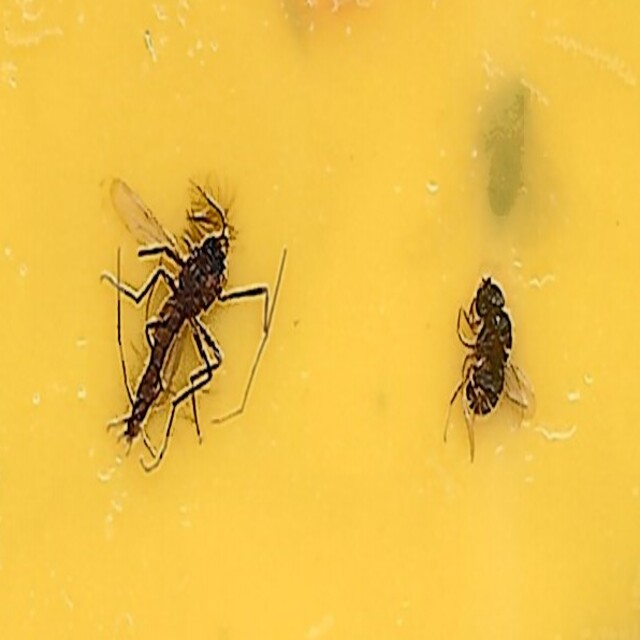Brachycera: (438, 273, 533, 459)
Nematocera: (107, 173, 273, 467)
